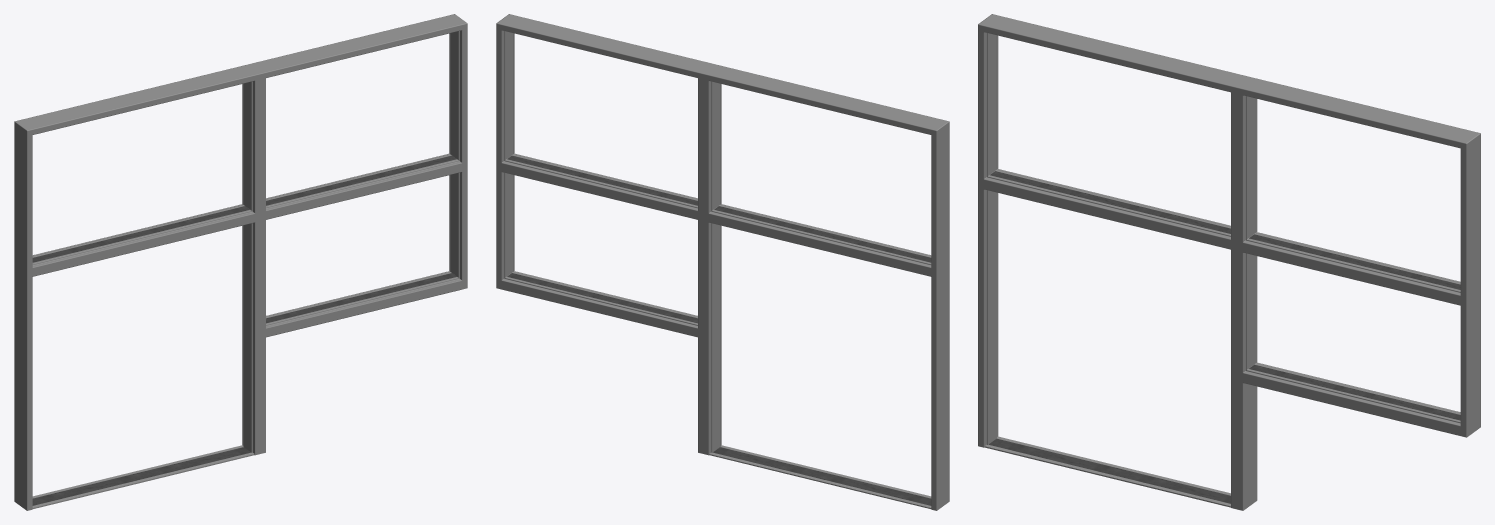
The model's file is Windows_05_Frame_Snaps014.FBX.
3 renders of one model, left to right at view 1: azimuth 30°, elevation 25°; view 2: azimuth 150°, elevation 25°; view 3: azimuth 330°, elevation 25°, orthographic. The views are drawn at different scales.
Parts seen in each view (by area): view 1: Windows_05_Frame_LOD00; view 2: Windows_05_Frame_LOD00; view 3: Windows_05_Frame_LOD00.
Part boxes in pixels (x1,y1,x2,y2): Windows_05_Frame_LOD00: [14, 14, 467, 510]; Windows_05_Frame_LOD00: [496, 14, 949, 510]; Windows_05_Frame_LOD00: [978, 14, 1480, 510].
Size of what is drawn, in the model's own units: 400 by 330 by 20.
2 materials, 1 textured.
